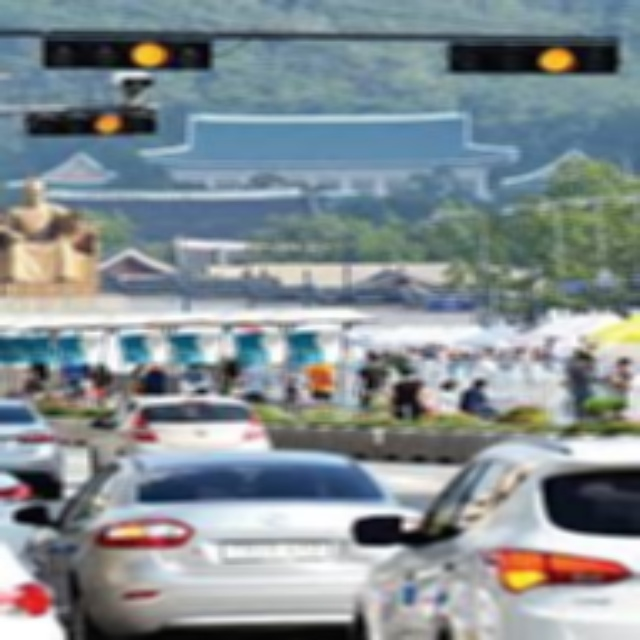yellow_light: (533, 47, 576, 73), (130, 42, 169, 65), (95, 114, 123, 131)
